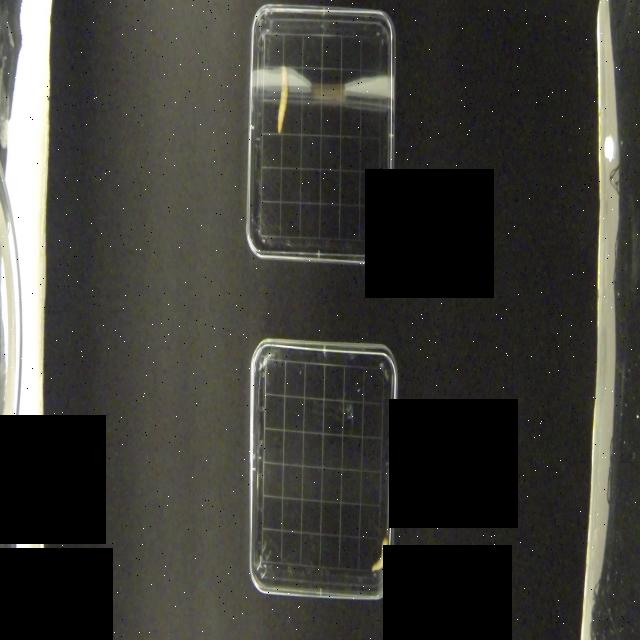larva: (273, 58, 293, 137), (370, 535, 390, 577)
